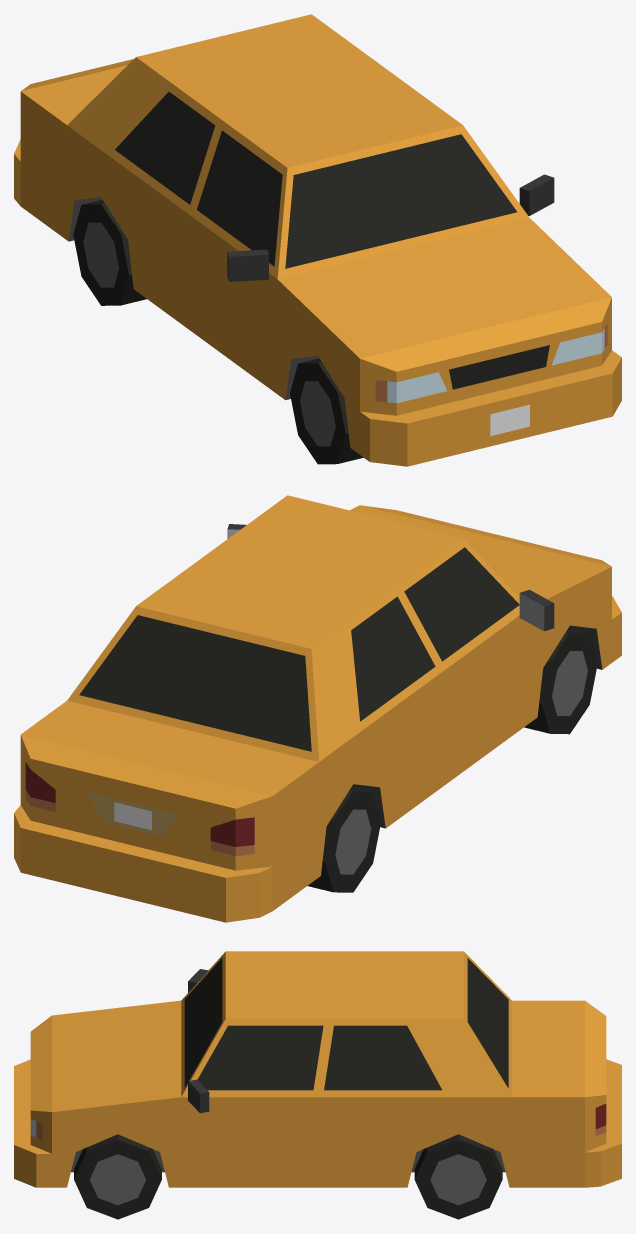
File: Veh_Sedan_01_Yellow.obj
3 views of the same model, one above another, from view 1: azimuth 30°, elevation 25°; view 2: azimuth 150°, elevation 25°; view 3: azimuth 270°, elevation 25° (orthographic). The views are drawn at different scales.
Size of the model in its own units: 1.22 by 0.852 by 2.52.
